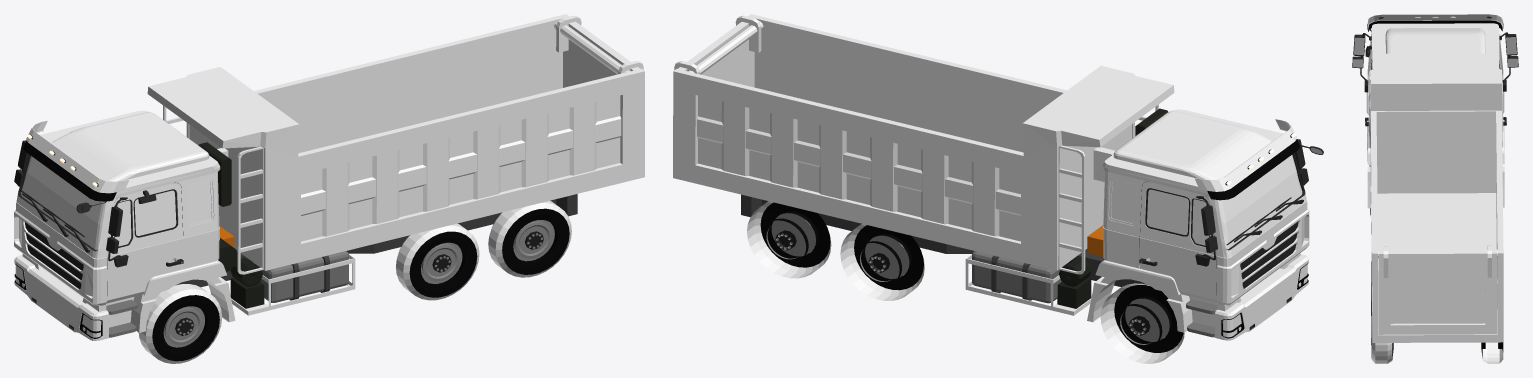
Rendered from truck_normal.glb.
The picture shows the model from 3 angles, left to right: view 1: azimuth 30°, elevation 25°; view 2: azimuth 150°, elevation 25°; view 3: azimuth 270°, elevation 25°; orthographic projection. The views are drawn at different scales.
Parts seen in each view (by area): view 1: truck; view 2: truck; view 3: truck.
Boxes of the visible parts, x1=… form: truck: x1=14, y1=14, x2=644, y2=363; truck: x1=673, y1=14, x2=1323, y2=363; truck: x1=1352, y1=14, x2=1518, y2=363.
Size of the model in its own units: 6.55 by 2.32 by 1.95.
Materials: 5 (5 with a texture image).
